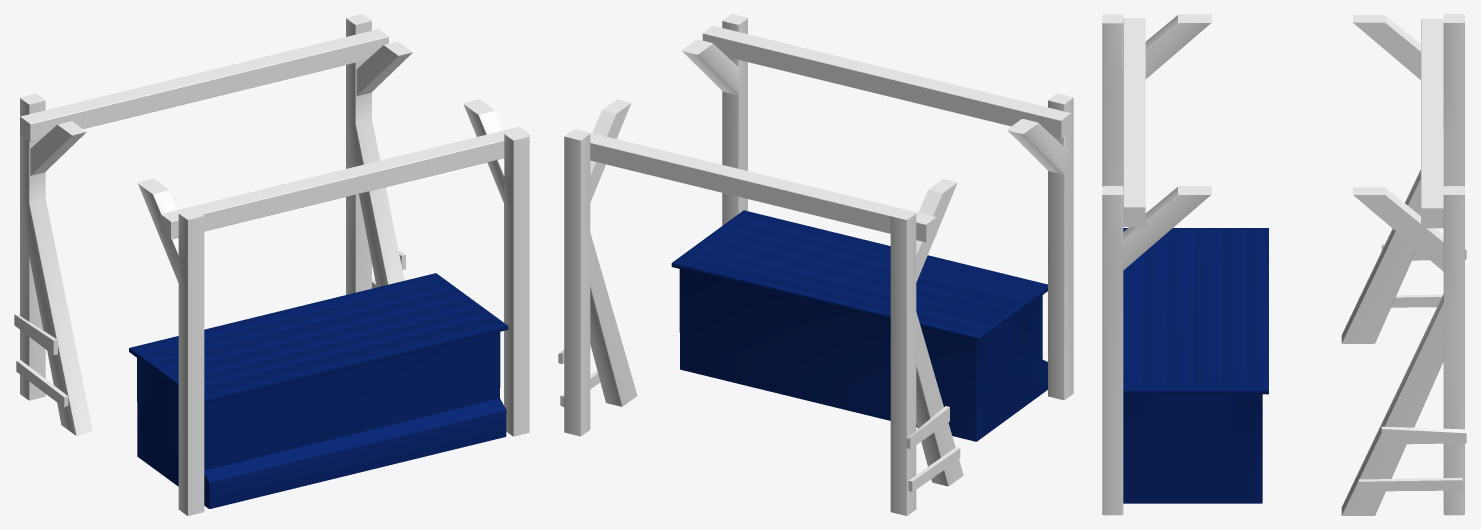
The model's file is BD_MarketSTall.fbx.
3 renders of one model, left to right at view 1: azimuth 30°, elevation 25°; view 2: azimuth 150°, elevation 25°; view 3: azimuth 270°, elevation 25°, orthographic. The views are drawn at different scales.
Parts seen in each view (by area): view 1: Box005; view 2: Box005; view 3: Box005.
Part boxes in pixels (left/top/right/bottom): Box005: left=14, top=14, right=529, bottom=515; Box005: left=558, top=14, right=1073, bottom=515; Box005: left=1102, top=14, right=1466, bottom=515.
Bounding box in the file's own units: 372 × 292 × 301.
